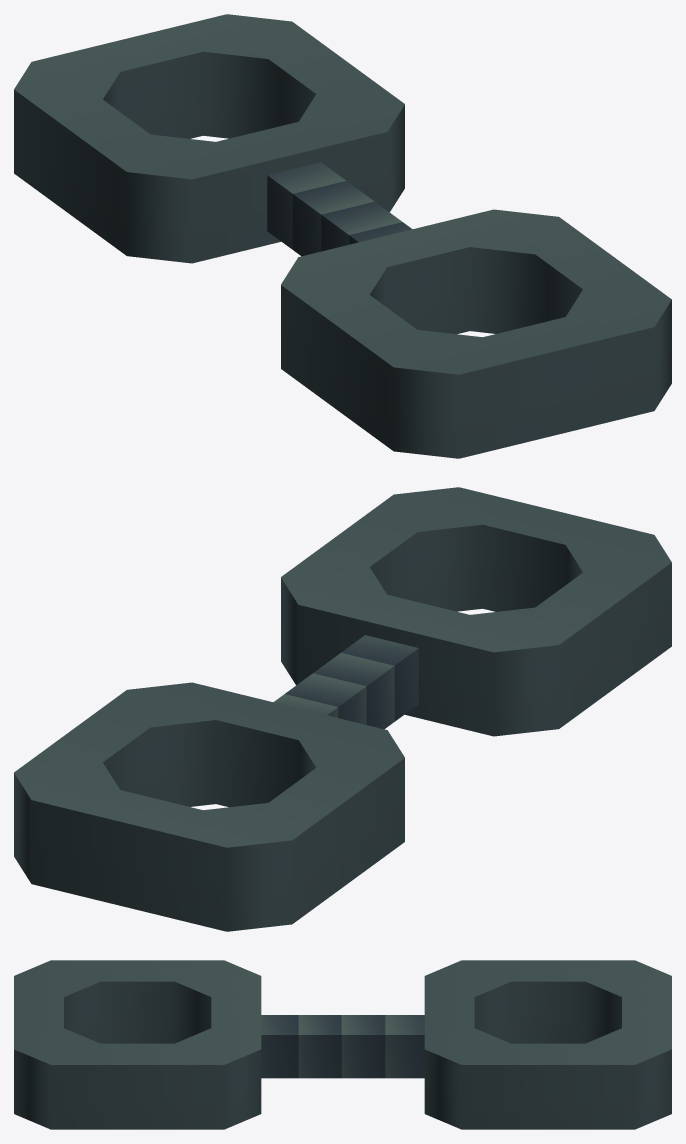
File: handcuffs.fbx
The picture shows the model from 3 angles, top to bottom: view 1: azimuth 30°, elevation 25°; view 2: azimuth 150°, elevation 25°; view 3: azimuth 270°, elevation 25°; orthographic projection. The views are drawn at different scales.
Parts seen in each view (by area): view 1: handcuffs; view 2: handcuffs; view 3: handcuffs.
Part boxes in pixels (<box>): handcuffs: <box>14,14,671,458</box>; handcuffs: <box>14,487,671,931</box>; handcuffs: <box>14,960,671,1129</box>.
Bounding box in the file's own units: 23.76 × 6.86 × 63.23.
1 material, 1 textured.
